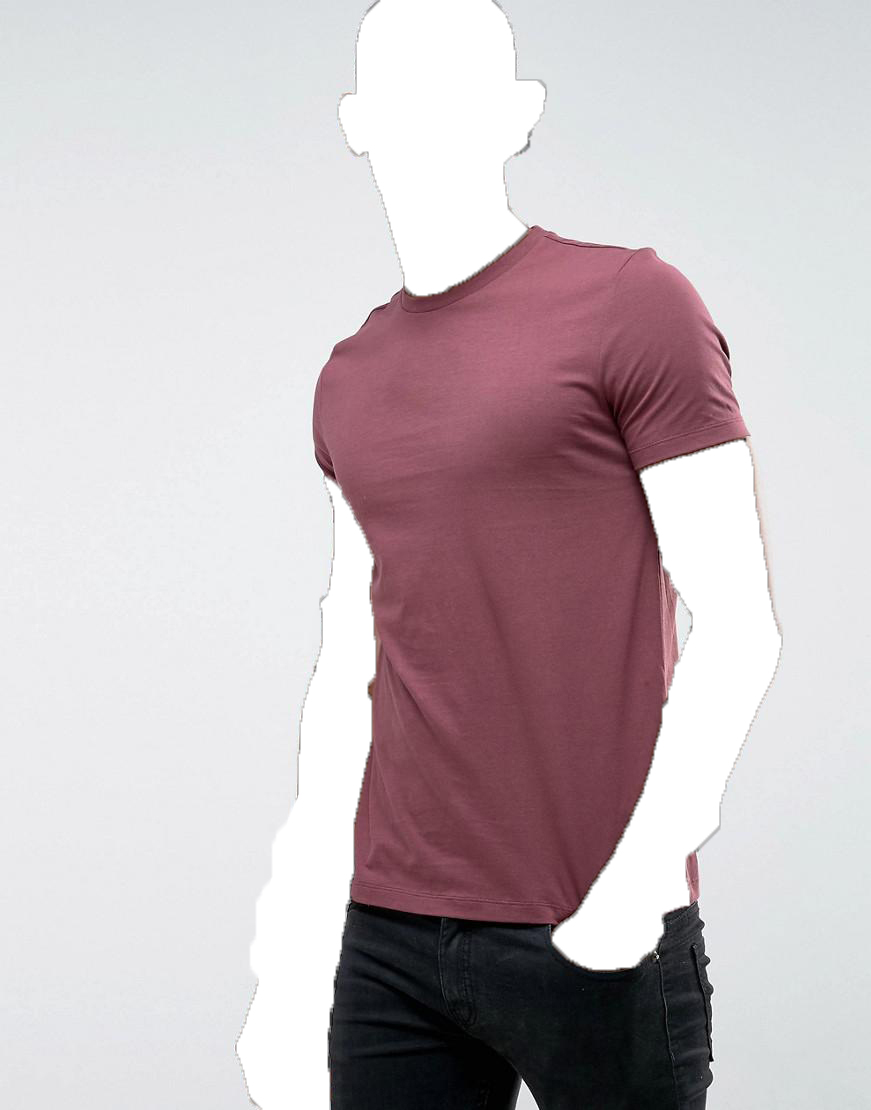teeshirt: (271, 227, 764, 920)
